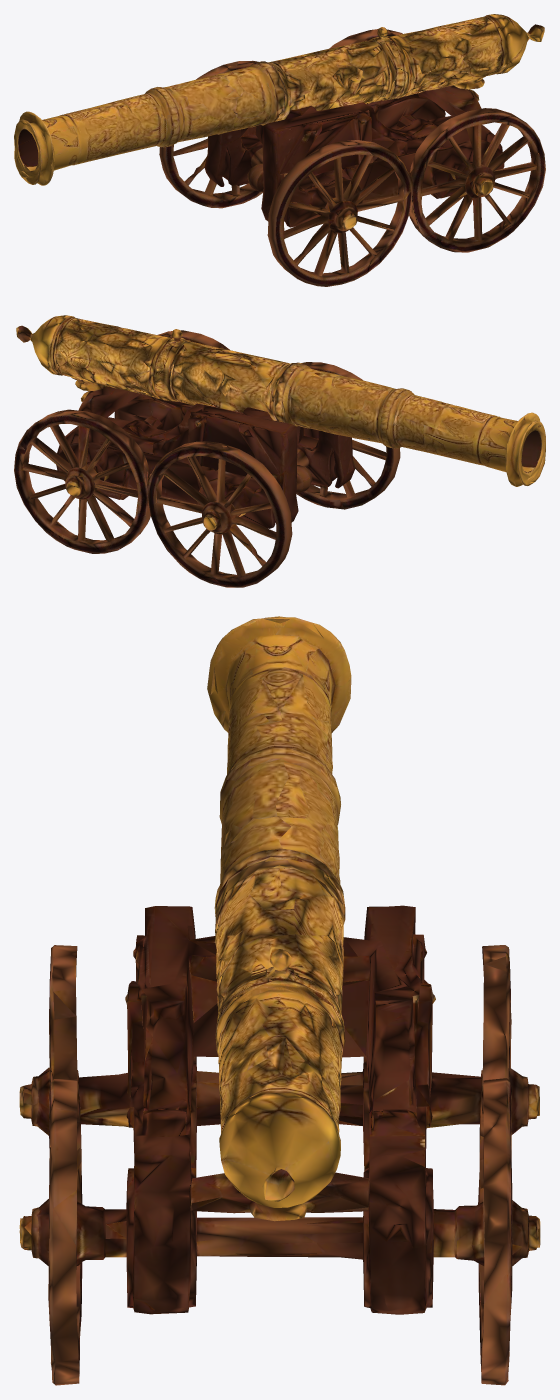
File: great_gun.glb
3 renders of one model, top to bottom at view 1: azimuth 30°, elevation 25°; view 2: azimuth 150°, elevation 25°; view 3: azimuth 270°, elevation 25°, orthographic. The views are drawn at different scales.
Visible parts, largest first — view 1: great_gun; view 2: great_gun; view 3: great_gun.
Part boxes in pixels (bbox=[...]): great_gun: bbox=[14, 14, 545, 286]; great_gun: bbox=[14, 315, 545, 587]; great_gun: bbox=[19, 616, 540, 1385].
Size of the model in its own units: 7.5 by 2.66 by 3.26.
1 material, 1 textured.
